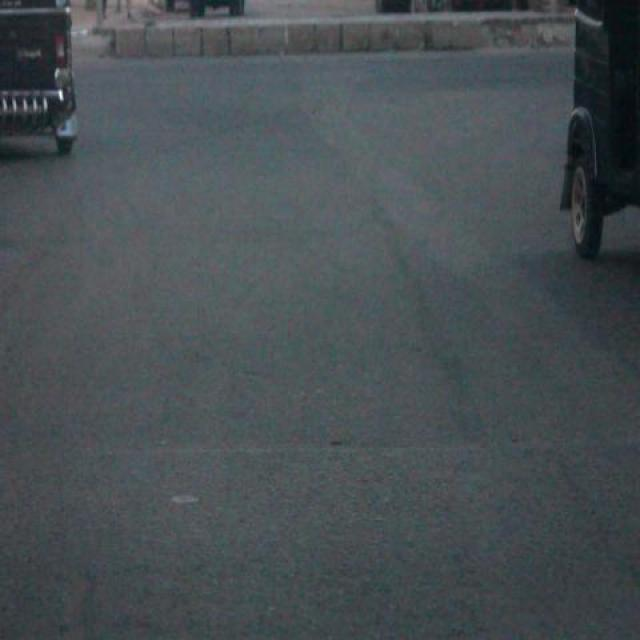Unmarked Bump: (0, 425, 640, 640)
